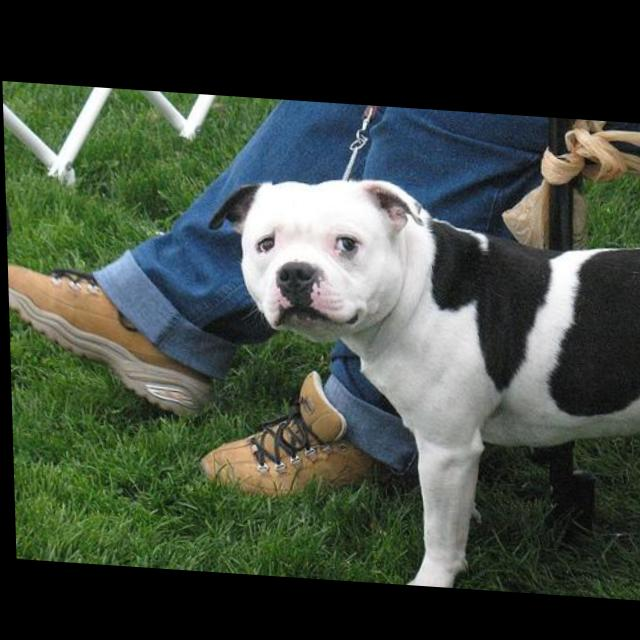staffford: (209, 165, 640, 594)
